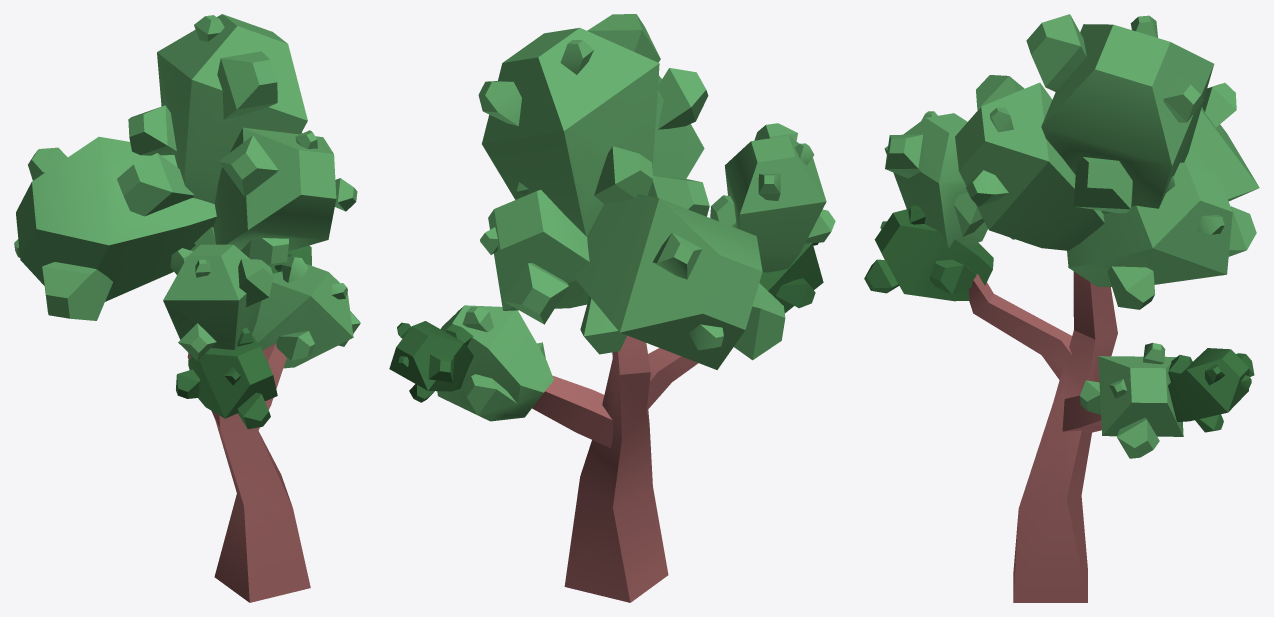
File: tree_obj.glb
3 views of the same model, side by side, from view 1: azimuth 30°, elevation 25°; view 2: azimuth 150°, elevation 25°; view 3: azimuth 270°, elevation 25° (orthographic). The views are drawn at different scales.
Parts seen in each view (by area): view 1: Tree; view 2: Tree; view 3: Tree.
Part boxes in pixels (x1=…): Tree: x1=14, y1=14, x2=360, y2=602; Tree: x1=389, y1=14, x2=835, y2=602; Tree: x1=864, y1=14, x2=1259, y2=602.
Size of the model in its own units: 10.59 by 16.73 by 10.6.
